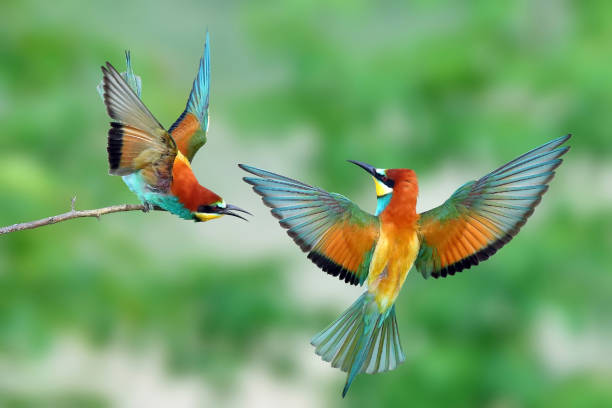Bird: (238, 127, 573, 401), (92, 25, 252, 228)
